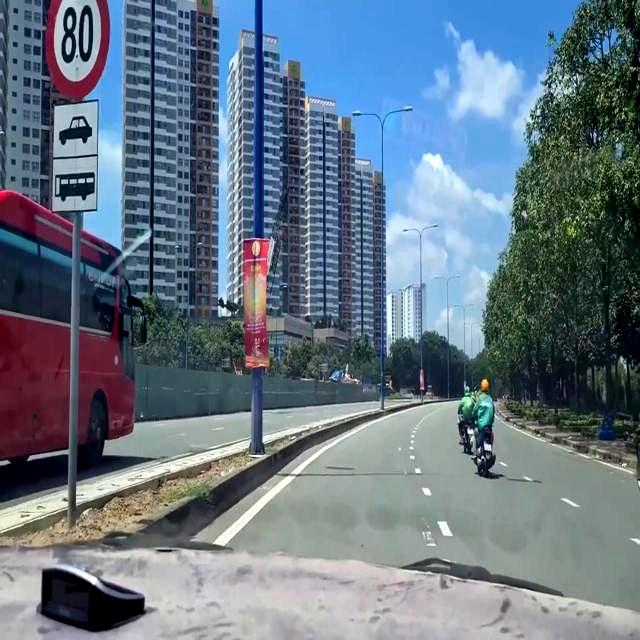Biển phụ: (48, 101, 100, 220)
Giới hạn tốc độ: 80Km/h: (40, 2, 112, 98)
